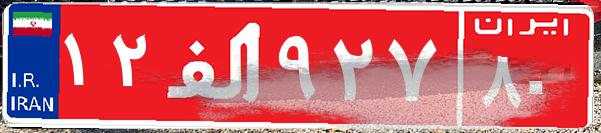0: (525, 38, 570, 115)
1: (57, 26, 110, 107)
2: (330, 28, 385, 110), (110, 28, 158, 105)
7: (385, 28, 445, 110)
8: (475, 38, 525, 113)
9: (273, 28, 330, 110)
الف: (158, 15, 273, 115)
